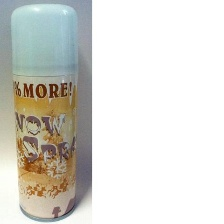aerosol_cans: (7, 0, 80, 224)
